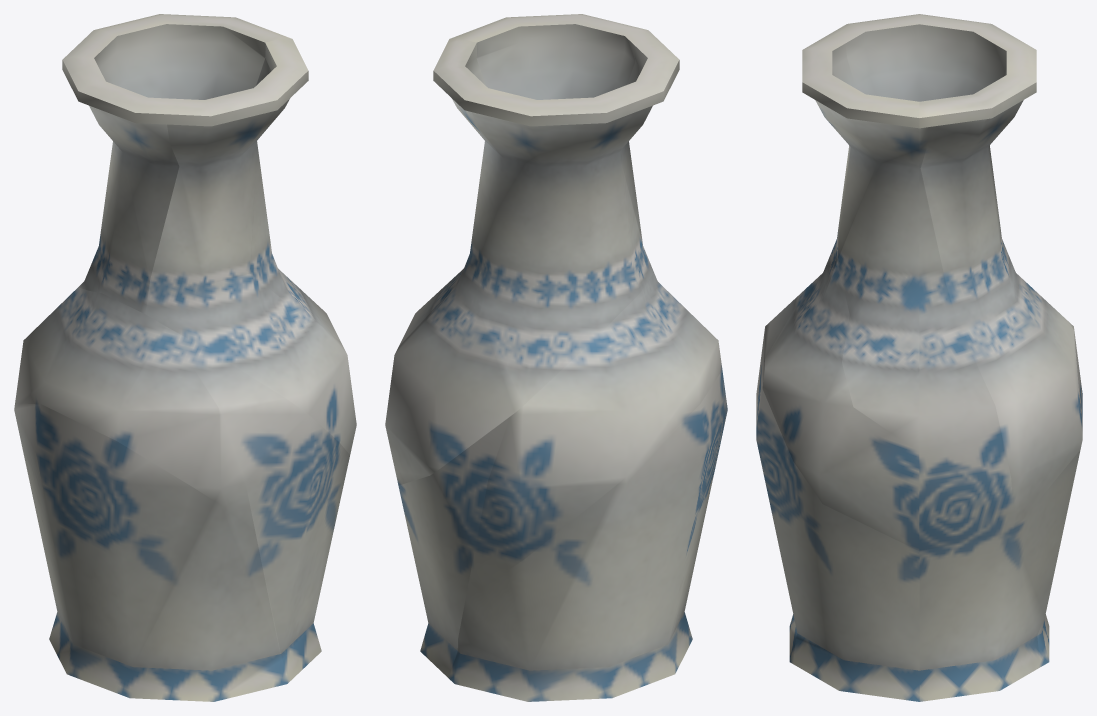
Rendered from vase_shatter.fbx.
The picture shows the model from 3 angles, left to right: view 1: azimuth 30°, elevation 25°; view 2: azimuth 150°, elevation 25°; view 3: azimuth 270°, elevation 25°; orthographic projection.
Parts seen in each view (by area): view 1: Pieces_2, Pieces_4, Pieces_1_2, Pieces_1, Pieces_2_2, Pieces_1_3; view 2: Pieces_4, Pieces_2, Pieces_1_2, Pieces_1_3, Pieces_1; view 3: Pieces_1, Pieces_4, Pieces_1_3, Pieces_2_2, Pieces_2.
Part boxes in pixels (x1=…): Pieces_2: x1=14, y1=403, x2=289, y2=701; Pieces_4: x1=62, y1=14, x2=282, y2=311; Pieces_1_2: x1=15, y1=287, x2=254, y2=530; Pieces_1: x1=167, y1=327, x2=349, y2=681; Pieces_2_2: x1=140, y1=218, x2=356, y2=454; Pieces_1_3: x1=161, y1=35, x2=340, y2=341; Pieces_4: x1=385, y1=41, x2=679, y2=485; Pieces_2: x1=448, y1=370, x2=727, y2=701; Pieces_1_2: x1=465, y1=273, x2=722, y2=598; Pieces_1_3: x1=399, y1=14, x2=667, y2=345; Pieces_1: x1=398, y1=417, x2=509, y2=677; Pieces_1: x1=756, y1=287, x2=1082, y2=701; Pieces_4: x1=831, y1=14, x2=1082, y2=529; Pieces_1_3: x1=802, y1=33, x2=1000, y2=451; Pieces_2_2: x1=762, y1=199, x2=1014, y2=551; Pieces_2: x1=789, y1=614, x2=1049, y2=666.
Size of the model in its own units: 8.8 by 16.44 by 8.37.
2 materials, 1 textured.
